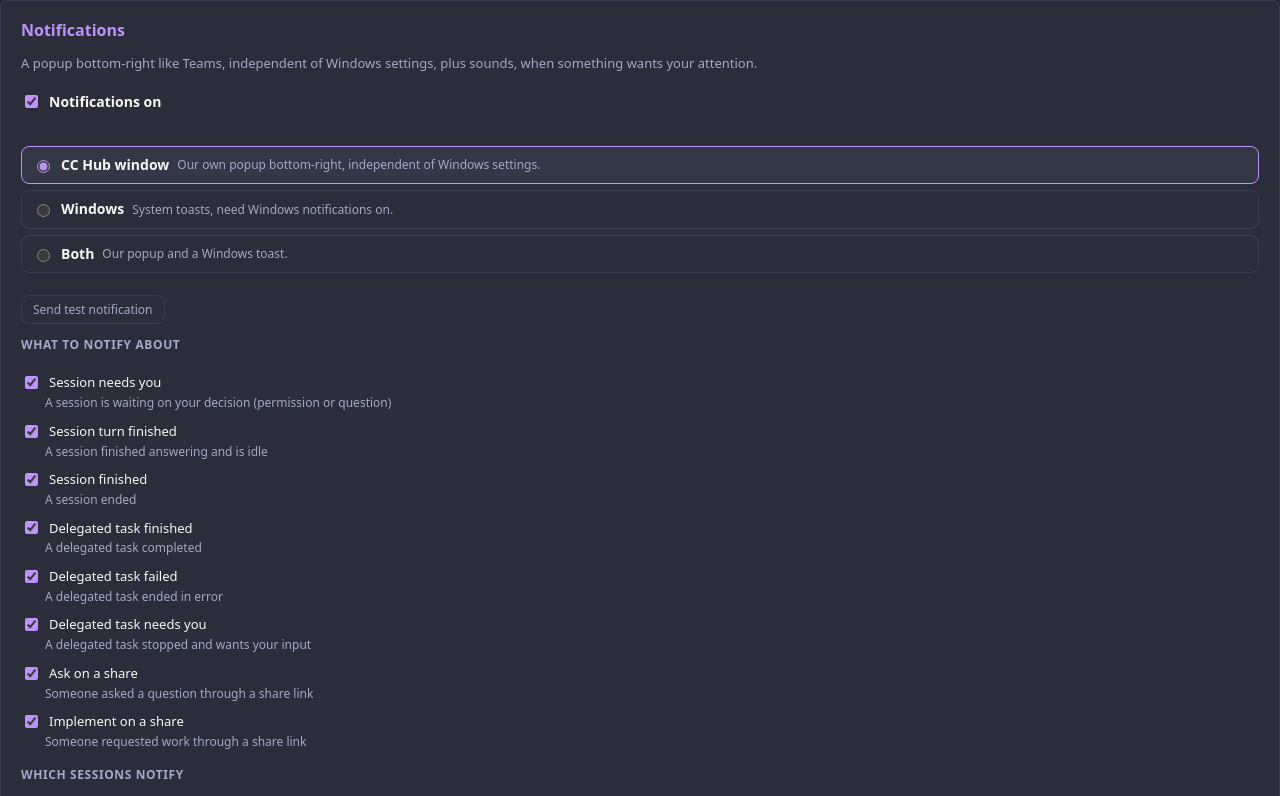
Test case: a test in the CC Hub style only sends the in-app toast
Click the button "Send test notification": (93, 309) [21,295,164,324]
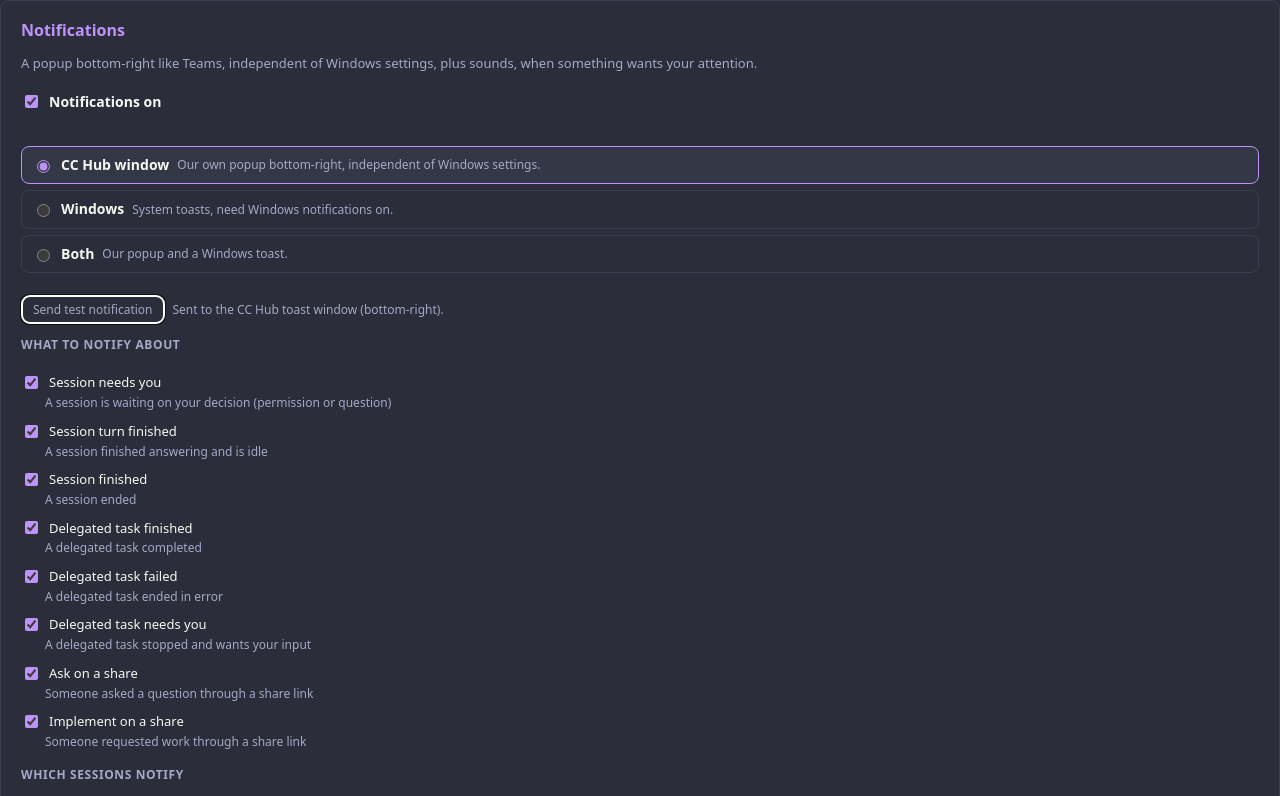
Check: the text "Sent to the CC Hub toast window (bottom-right)." is shown, box [172,301,444,318]
